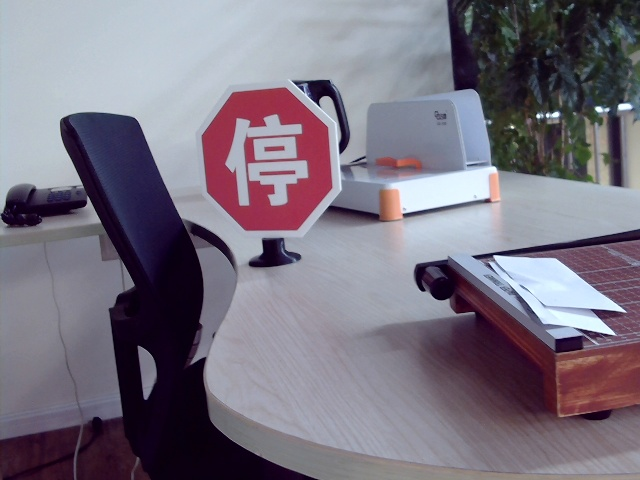stop: (224, 108, 306, 209)
